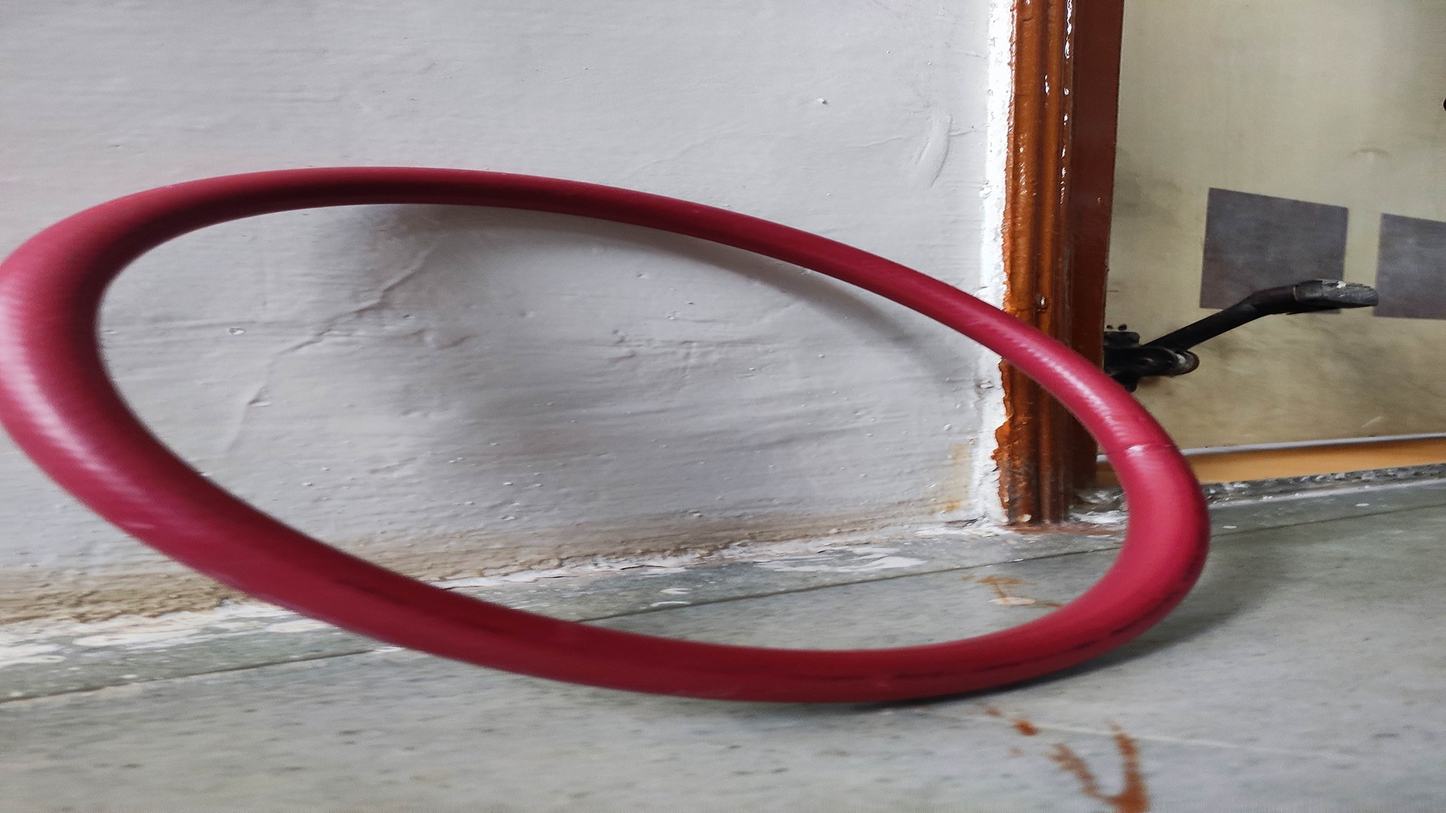Red ring: (11, 166, 1207, 697)
